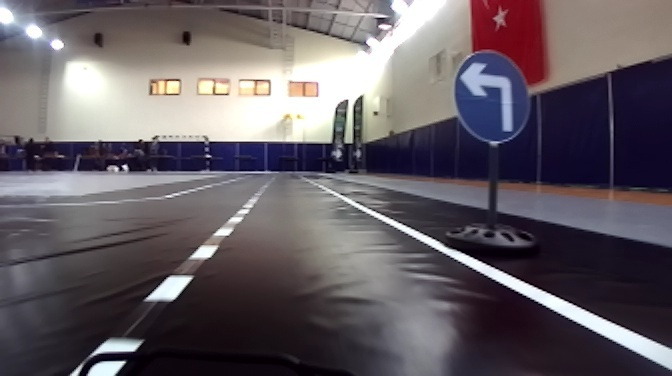sola_donus: (443, 52, 543, 140)
